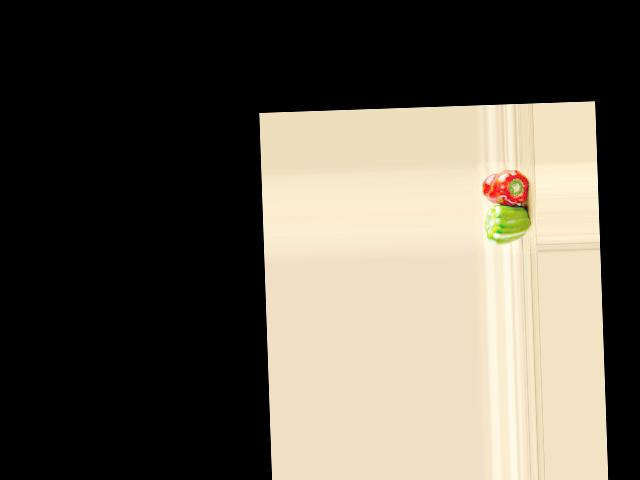bell_pepper: (481, 168, 529, 207)
